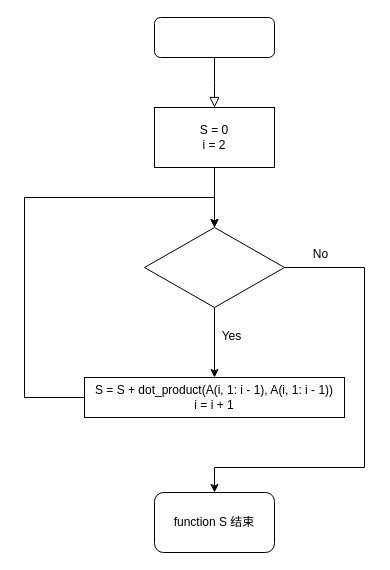
Image size: 390x570. Some labels were removed from this diagram. Here are the shapes that lost their labels. From the top down, the centre of each, then its label:
At (214,37): "function S(A, n) 开始".
At (214,267): "i <= n".
